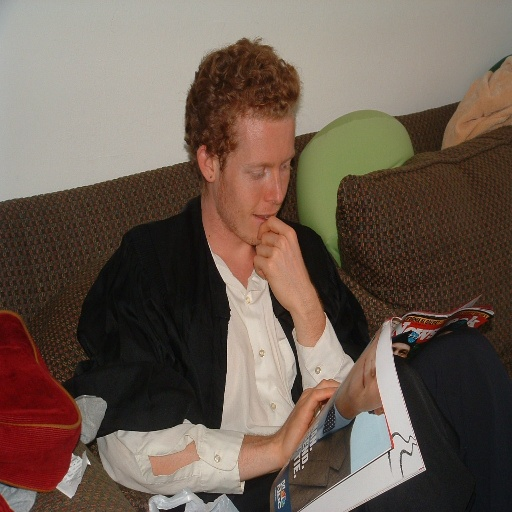hand: (257, 221, 333, 358), (272, 377, 343, 472)
